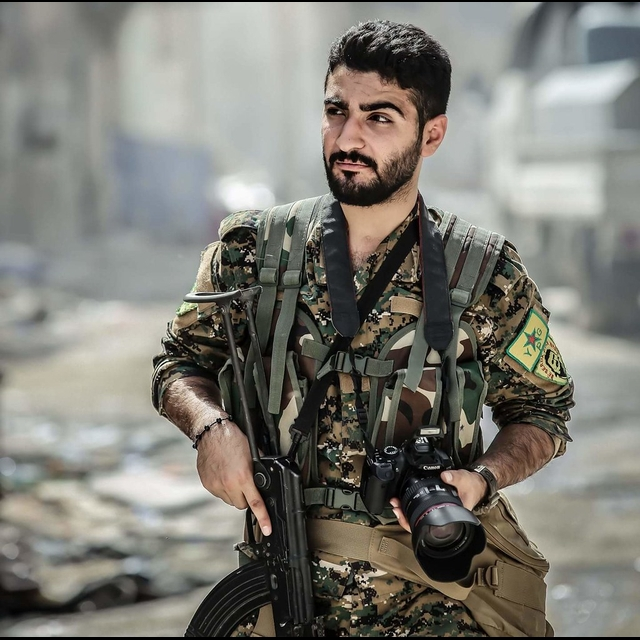AK47: (181, 422, 314, 640)
YPG: (519, 326, 546, 358)
